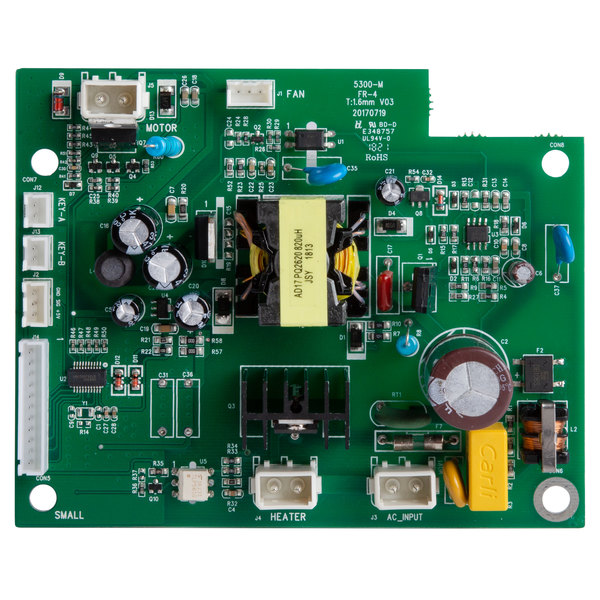capacitor: (110, 198, 166, 254), (141, 242, 194, 293), (172, 289, 215, 339), (372, 163, 413, 211), (497, 253, 542, 290)
